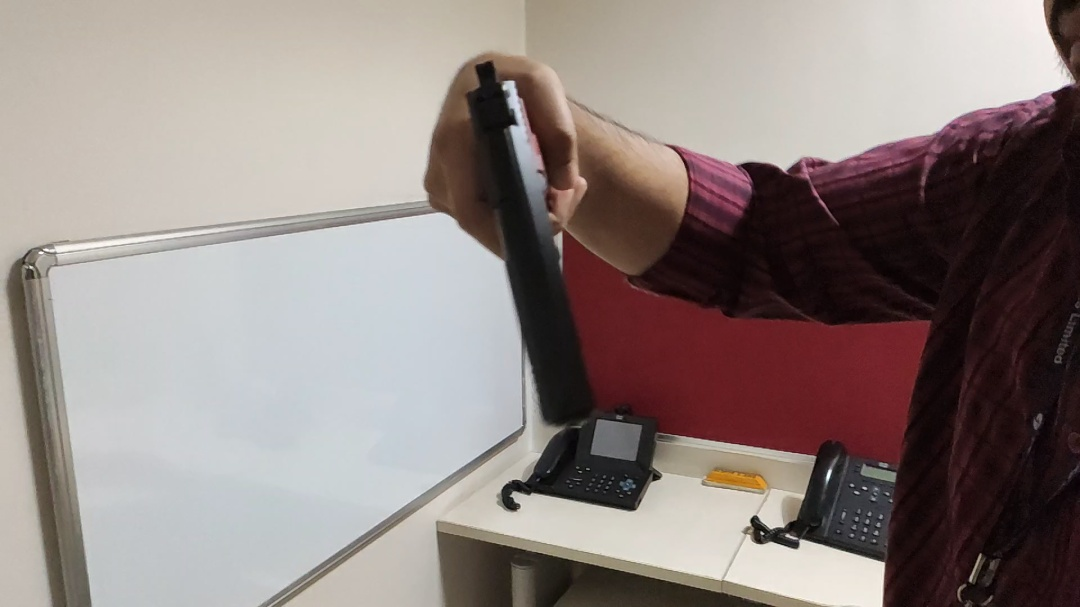gun: (418, 43, 626, 428)
